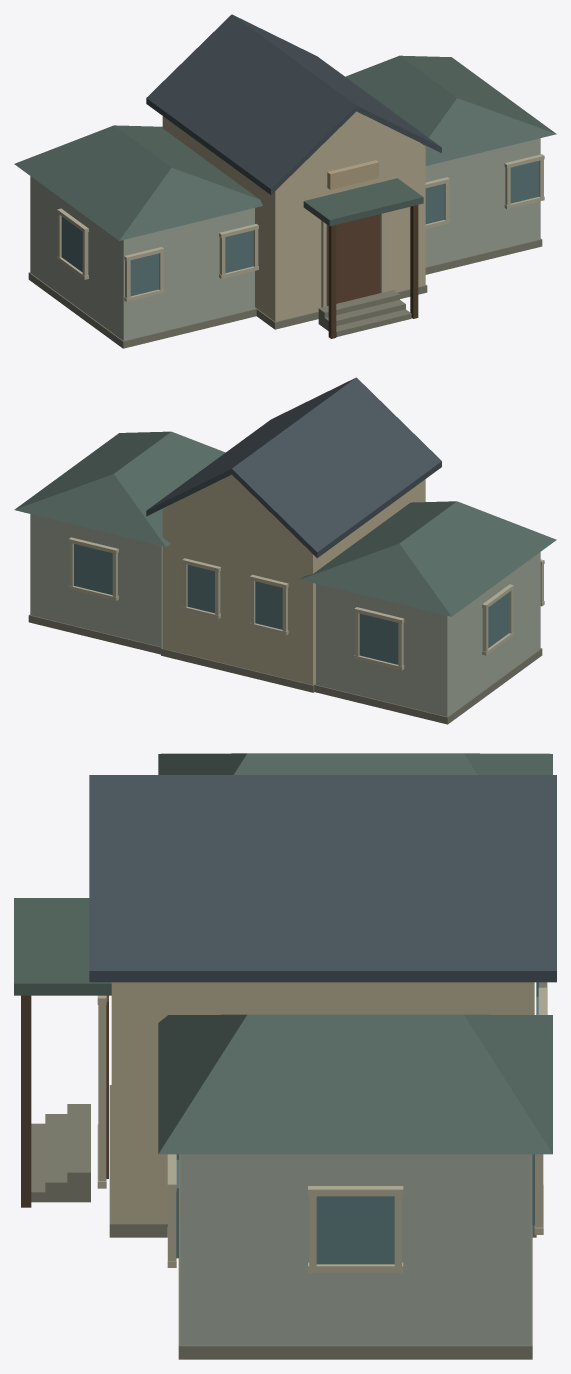
Rendered from Building_Settlement_VillageHall_001_LOD1.glb.
3 views of the same model, one above another, from view 1: azimuth 30°, elevation 25°; view 2: azimuth 150°, elevation 25°; view 3: azimuth 270°, elevation 25° (orthographic). The views are drawn at different scales.
Visible parts, largest first — view 1: Building_Settlement_VillageHall_001_LOD1; view 2: Building_Settlement_VillageHall_001_LOD1; view 3: Building_Settlement_VillageHall_001_LOD1.
Part boxes in pixels (x1=…): Building_Settlement_VillageHall_001_LOD1: x1=14, y1=14, x2=556, y2=348; Building_Settlement_VillageHall_001_LOD1: x1=14, y1=377, x2=556, y2=724; Building_Settlement_VillageHall_001_LOD1: x1=14, y1=753, x2=556, y2=1359.
Bounding box in the file's own units: 11.65 × 5.33 × 6.67.
